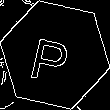P_N: (32, 26, 78, 84)
